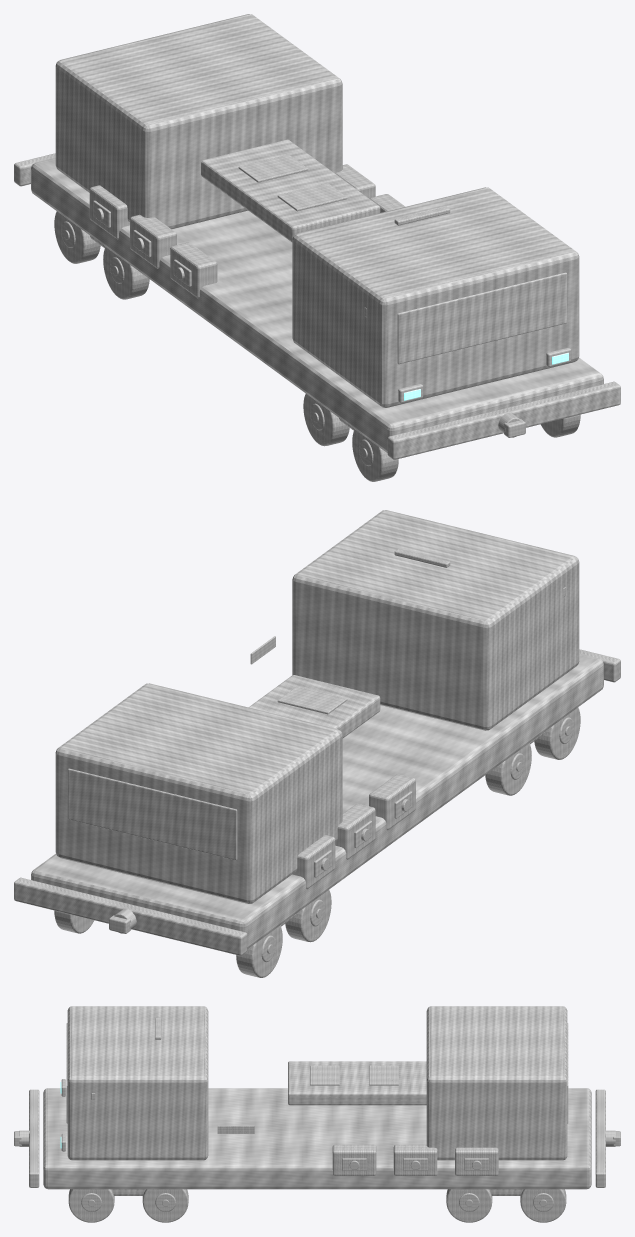
File: locomotive_variant_c.glb
3 renders of one model, top to bottom at view 1: azimuth 30°, elevation 25°; view 2: azimuth 150°, elevation 25°; view 3: azimuth 270°, elevation 25°, orthographic. The views are drawn at different scales.
Visible parts, largest first — view 1: Rear control cab, Front cab shell.001, Locomotive underframe.002, Cab windshield.001, Roof equipment spine.002, Front buffer beam.002, Traction motor housing.012, Traction motor housing.013, Rail wheel.020, Rail wheel.016, Rail wheel.018, Rail wheel.022 (+4 smaller); view 2: Front cab shell.001, Rear control cab, Locomotive underframe.002, Cab windshield, Rear buffer beam.002, Roof equipment spine.002, Traction motor housing.012, Traction motor housing.013, Rail wheel.018, Rail wheel.022, Rail wheel.020, Rail wheel.016 (+2 smaller); view 3: Locomotive underframe.002, Front cab shell.001, Rear control cab, Roof equipment spine.002, Traction motor housing.015, Traction motor housing.016, Front buffer beam.002, Rear buffer beam.002, Rail wheel.017, Rail wheel.023, Rail wheel.019, Rail wheel.021 (+4 smaller).
Part boxes in pixels (x1,y1,x2,y2): Rear control cab: (55,14,342,229); Front cab shell.001: (292,187,579,407); Locomotive underframe.002: (31,158,603,452); Cab windshield.001: (397,272,566,364); Roof equipment spine.002: (201,139,380,242); Front buffer beam.002: (387,381,620,459); Traction motor housing.012: (170,242,217,298); Traction motor housing.013: (130,214,176,268); Rail wheel.020: (103,247,149,299); Rail wheel.016: (352,429,398,481); Rail wheel.018: (303,393,349,446); Rail wheel.022: (54,211,100,263); Front cab shell.001: (292,510,579,730); Rear control cab: (55,683,342,903); Locomotive underframe.002: (31,654,603,948); Cab windshield: (68,768,237,860); Rear buffer beam.002: (14,877,247,955); Roof equipment spine.002: (248,675,380,738); Traction motor housing.012: (369,774,415,830); Traction motor housing.013: (335,803,375,859); Rail wheel.018: (485,743,531,795); Rail wheel.022: (236,925,282,977); Rail wheel.020: (285,889,331,942); Rail wheel.016: (534,707,580,759); Locomotive underframe.002: (43,1088,591,1189); Front cab shell.001: (67,1006,208,1160); Rear control cab: (426,1006,567,1160); Roof equipment spine.002: (288,1061,426,1105); Traction motor housing.015: (332,1144,376,1175); Traction motor housing.016: (393,1144,437,1175); Front buffer beam.002: (29,1089,39,1187); Rear buffer beam.002: (595,1089,605,1187); Rail wheel.017: (68,1189,114,1222); Rail wheel.023: (520,1189,566,1222); Rail wheel.019: (142,1189,188,1222); Rail wheel.021: (446,1189,492,1222).
Size of what is drawn, in the model's own units: 5.4 by 4.74 by 16.39.
6 materials, 6 textured.
